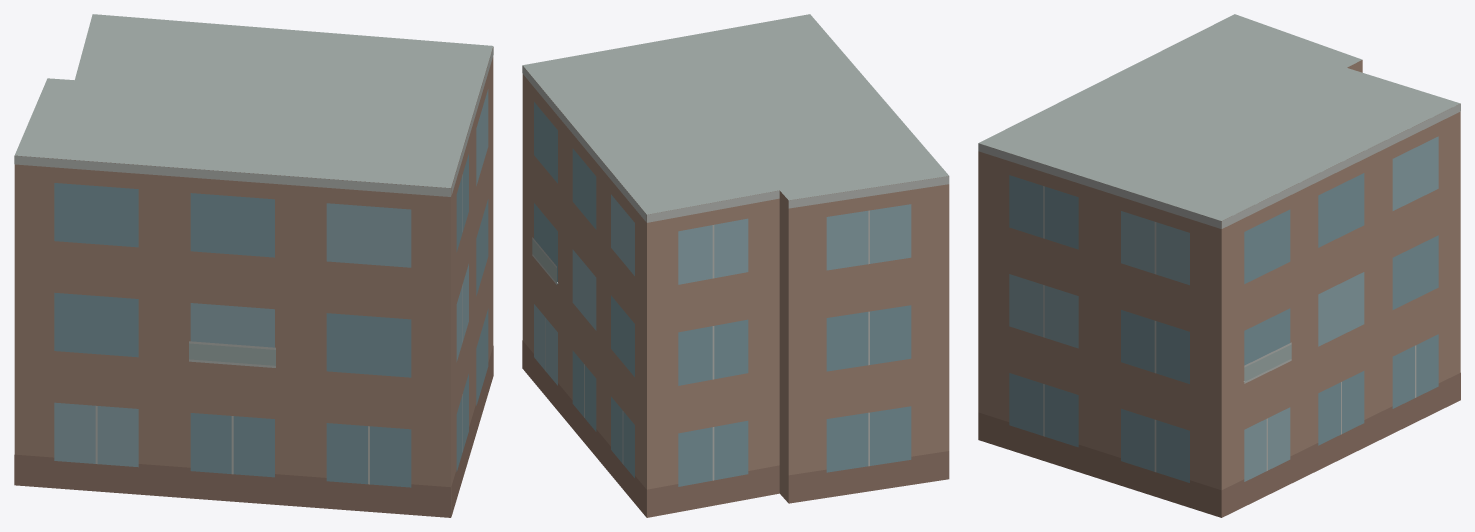
File: survey-upis-32614455.glb
3 renders of one model, left to right at view 1: azimuth 30°, elevation 25°; view 2: azimuth 150°, elevation 25°; view 3: azimuth 270°, elevation 25°, orthographic. The views are drawn at different scales.
Visible parts, largest first — view 1: survey-upis-32614455.tmp; view 2: survey-upis-32614455.tmp; view 3: survey-upis-32614455.tmp.
Boxes of the visible parts, x1,y1,x2,y2 form: survey-upis-32614455.tmp: [14, 14, 493, 517]; survey-upis-32614455.tmp: [522, 14, 949, 517]; survey-upis-32614455.tmp: [978, 14, 1460, 517].
Bounding box in the file's own units: 13.48 × 9 × 13.27.
